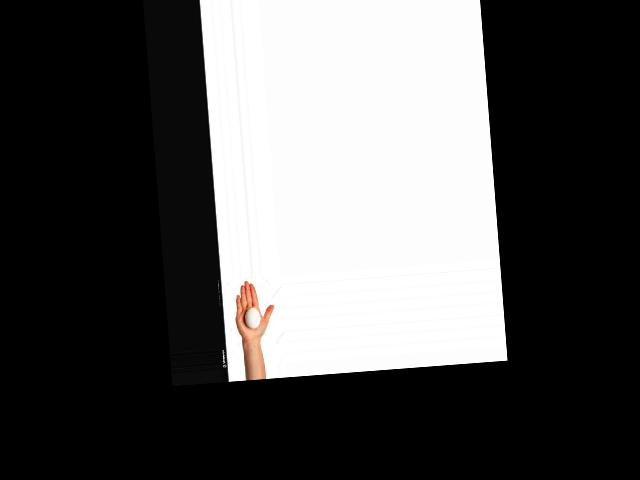egg: (244, 306, 260, 328)
